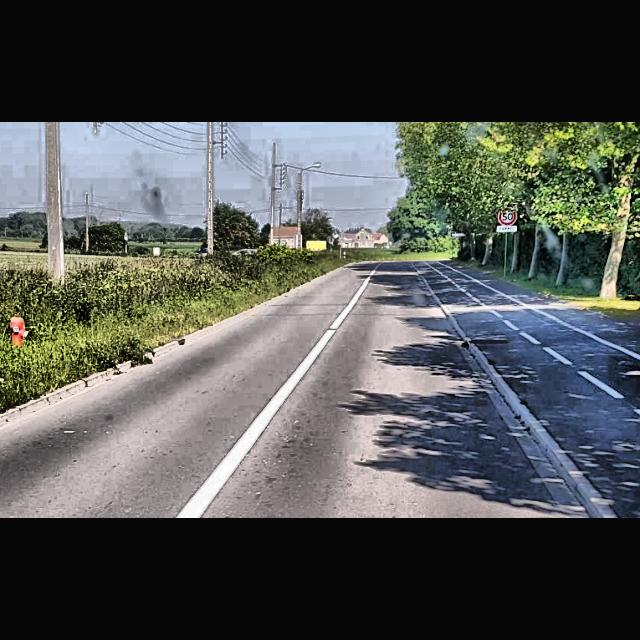speed_50: (499, 209, 516, 225)
